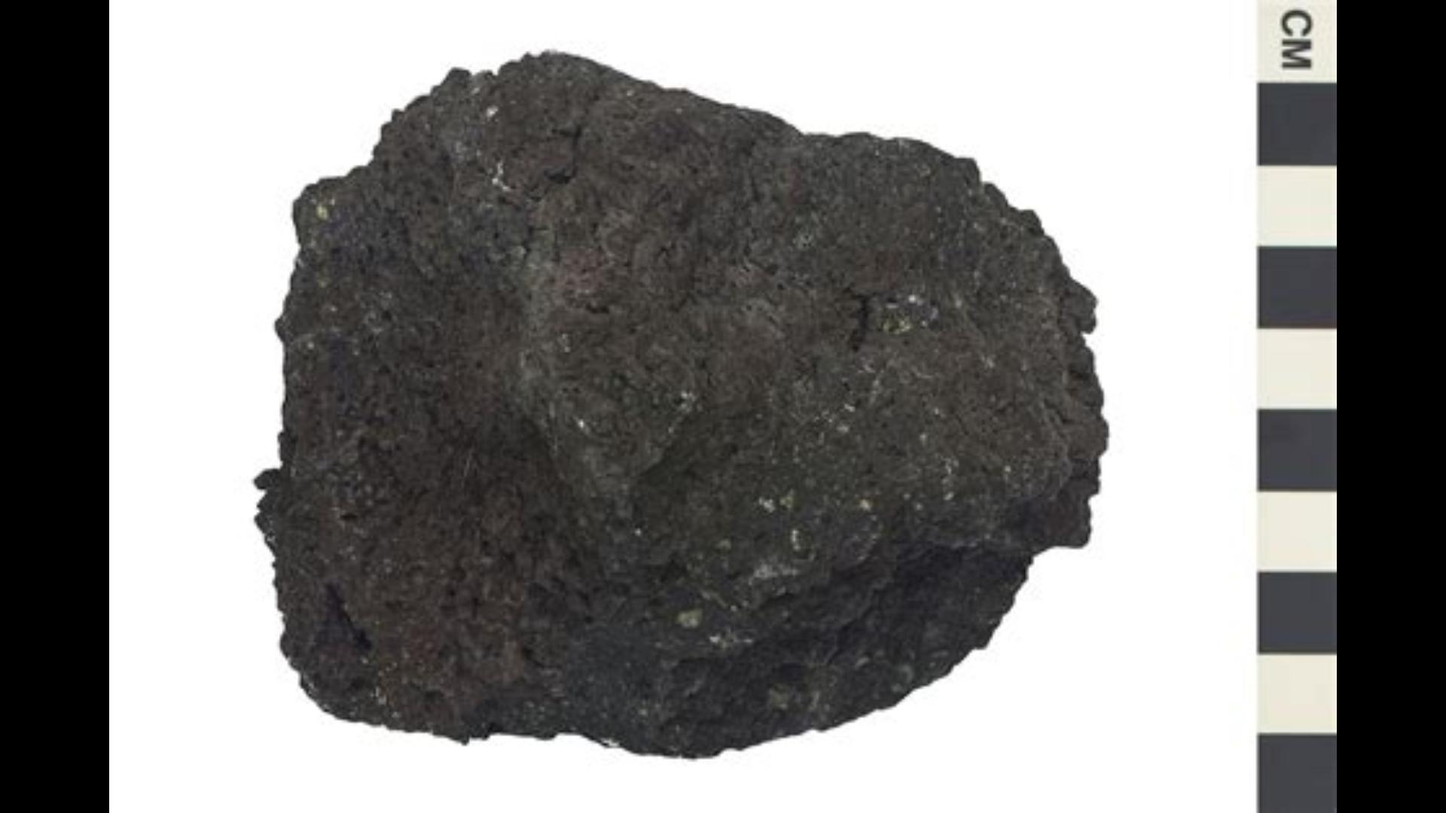rock: (259, 54, 1104, 756)
